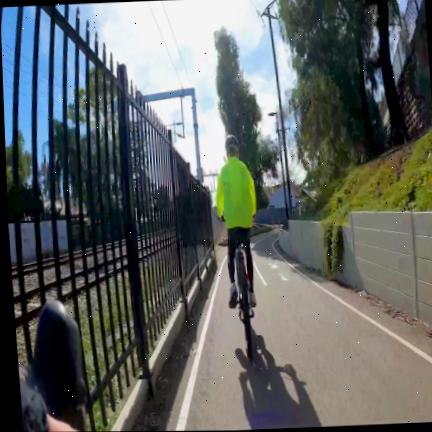Bike_Lane: (176, 235, 432, 431)
